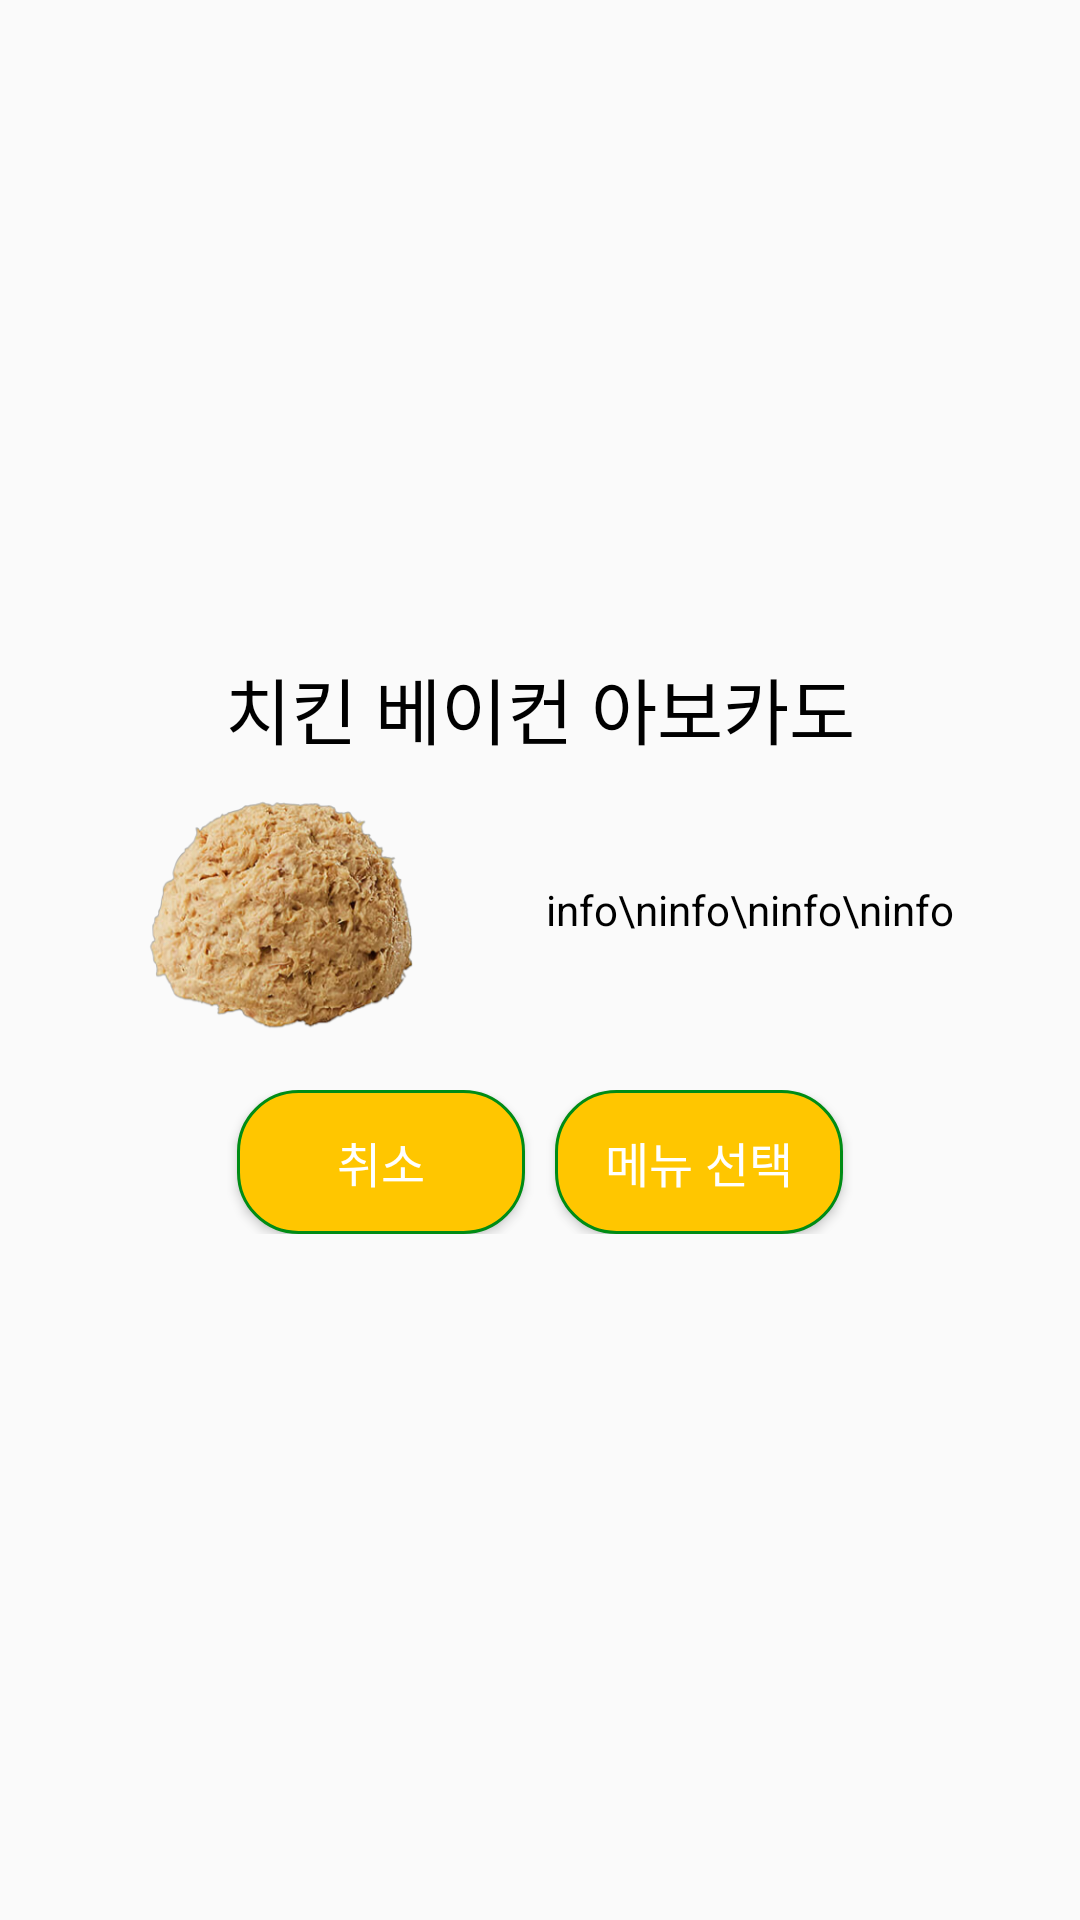

Locate icon controls on the screen. Image size 1080 × 1920, boxes as {"x1": x1, "y1": y1, "x2": x2, "y2": y2}.
meat select tuna: {"x1": 150, "y1": 802, "x2": 412, "y2": 1028}
